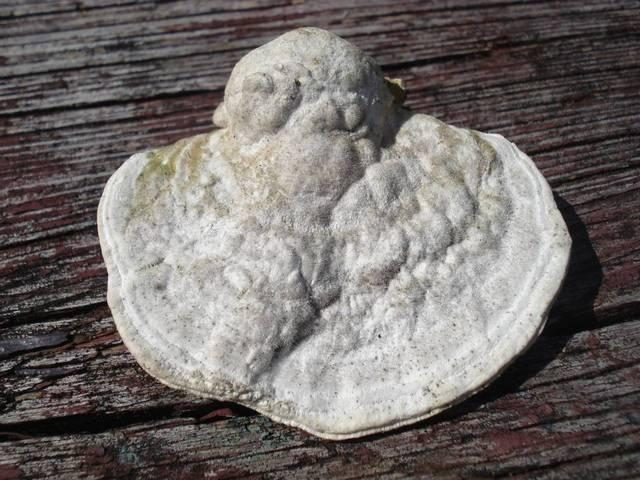poisonous_mushroom: (95, 24, 573, 442)
